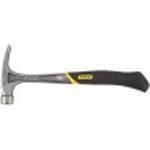hammer: (0, 42, 149, 105)
